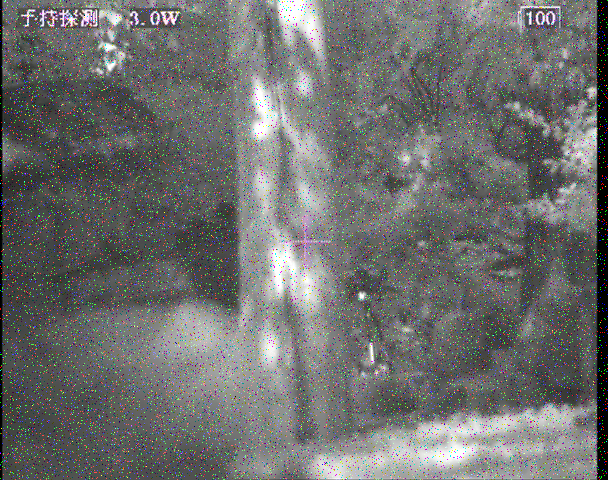my: (358, 289, 367, 302)
